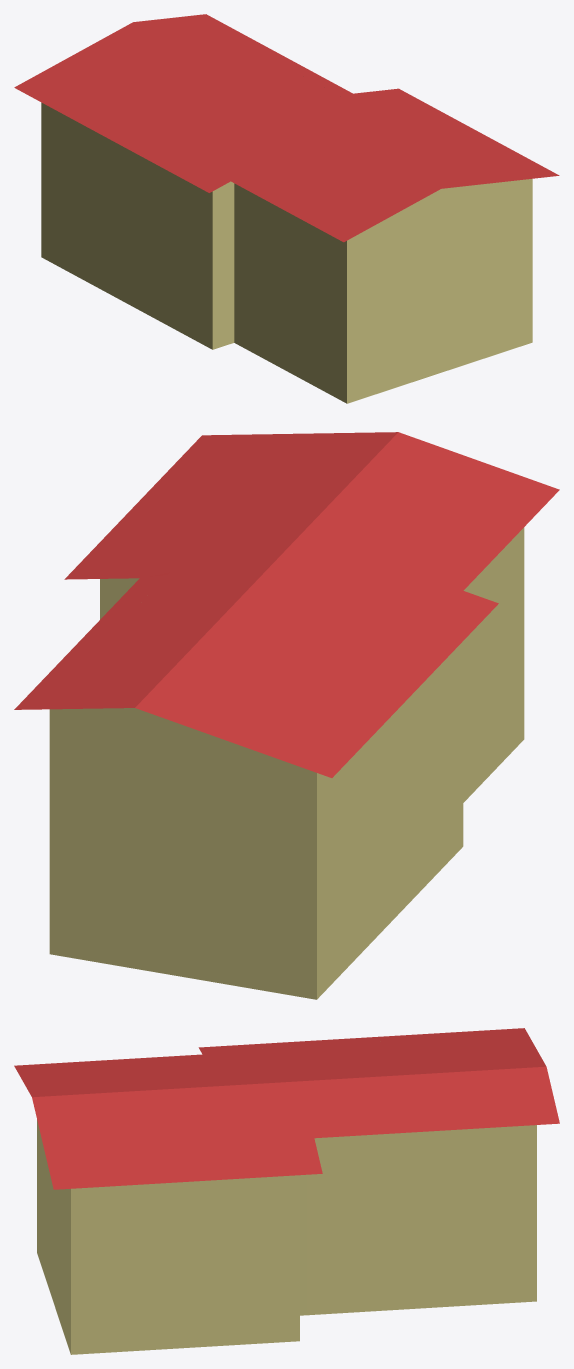
3 renders of one model, top to bottom at view 1: azimuth 30°, elevation 25°; view 2: azimuth 150°, elevation 25°; view 3: azimuth 270°, elevation 25°, orthographic. The views are drawn at different scales.
Bounding box in the file's own units: 14.17 × 20.21 × 8.24.
